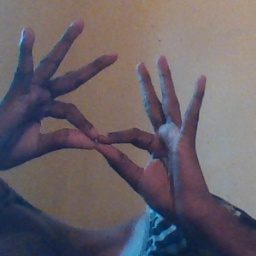B: (28, 64, 165, 188)
